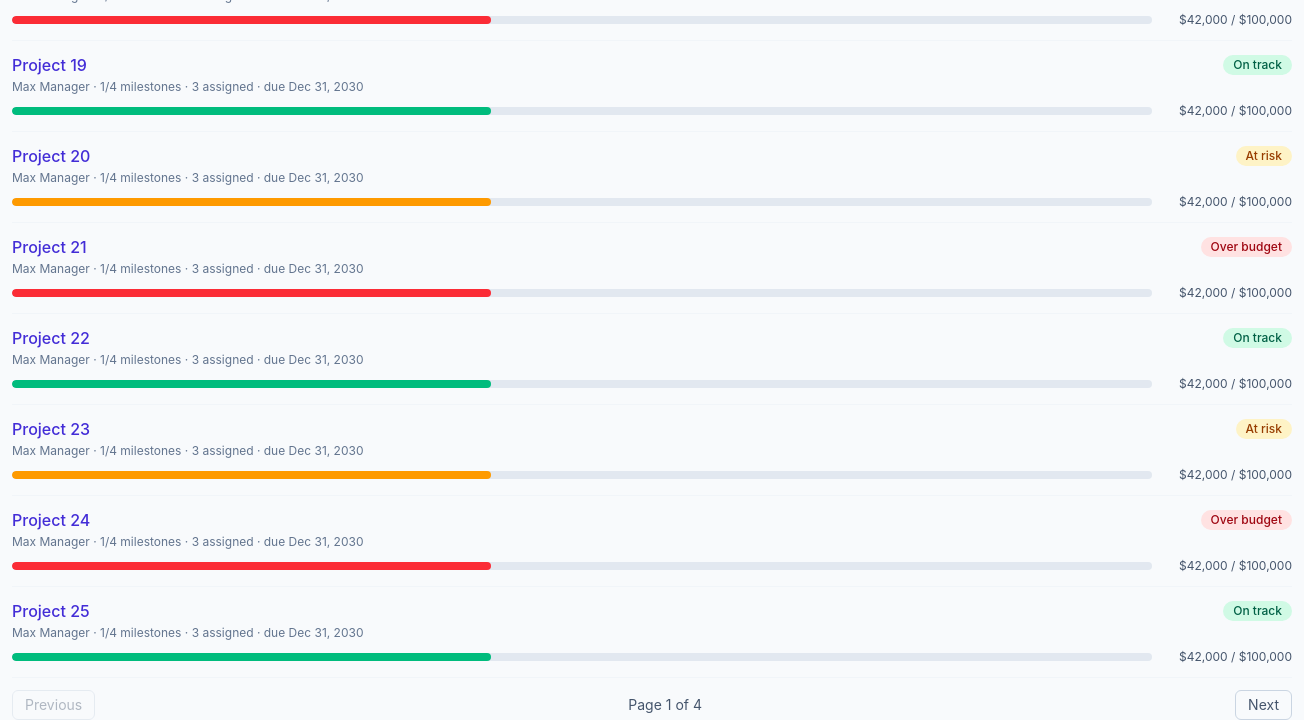
Test: ProjectHealthList › changing the filter returns to page 1
(page scrolled)
Click the button "Next": x=1264, y=705 [1235,690,1292,719]
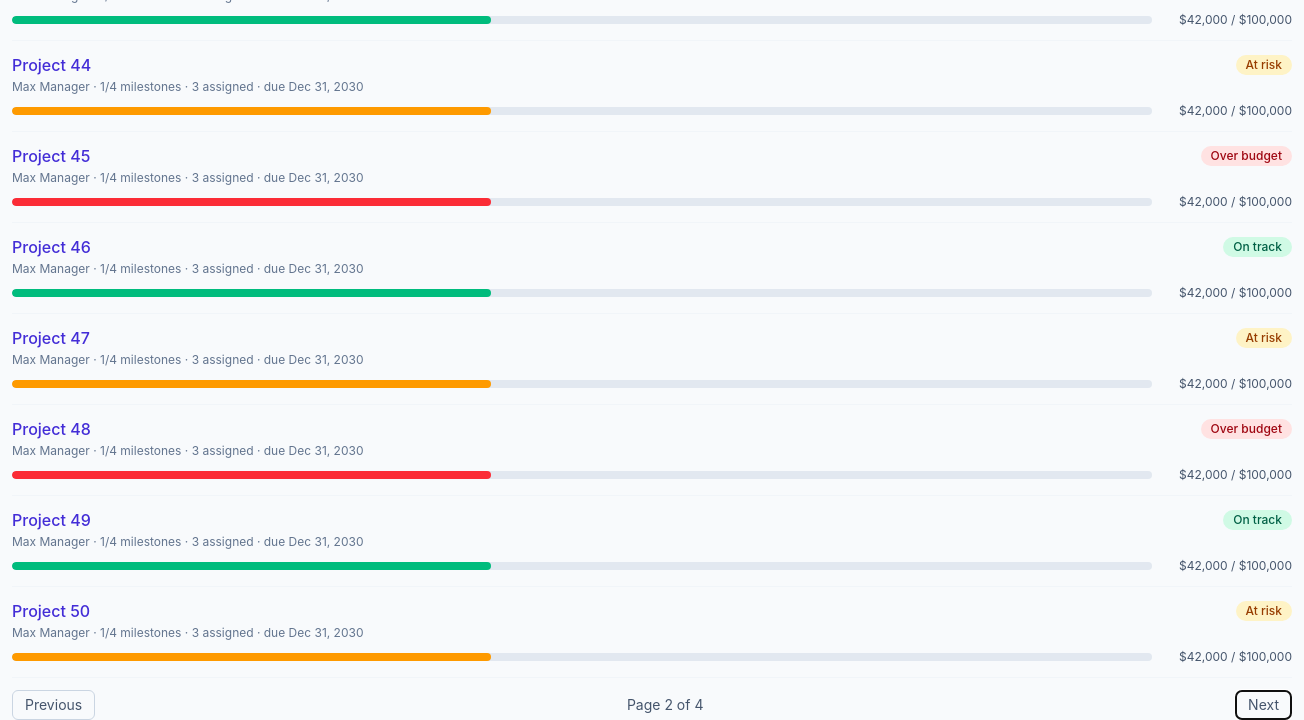
Click the button "Next": x=1264, y=705 [1235,690,1292,719]
(page scrolled)
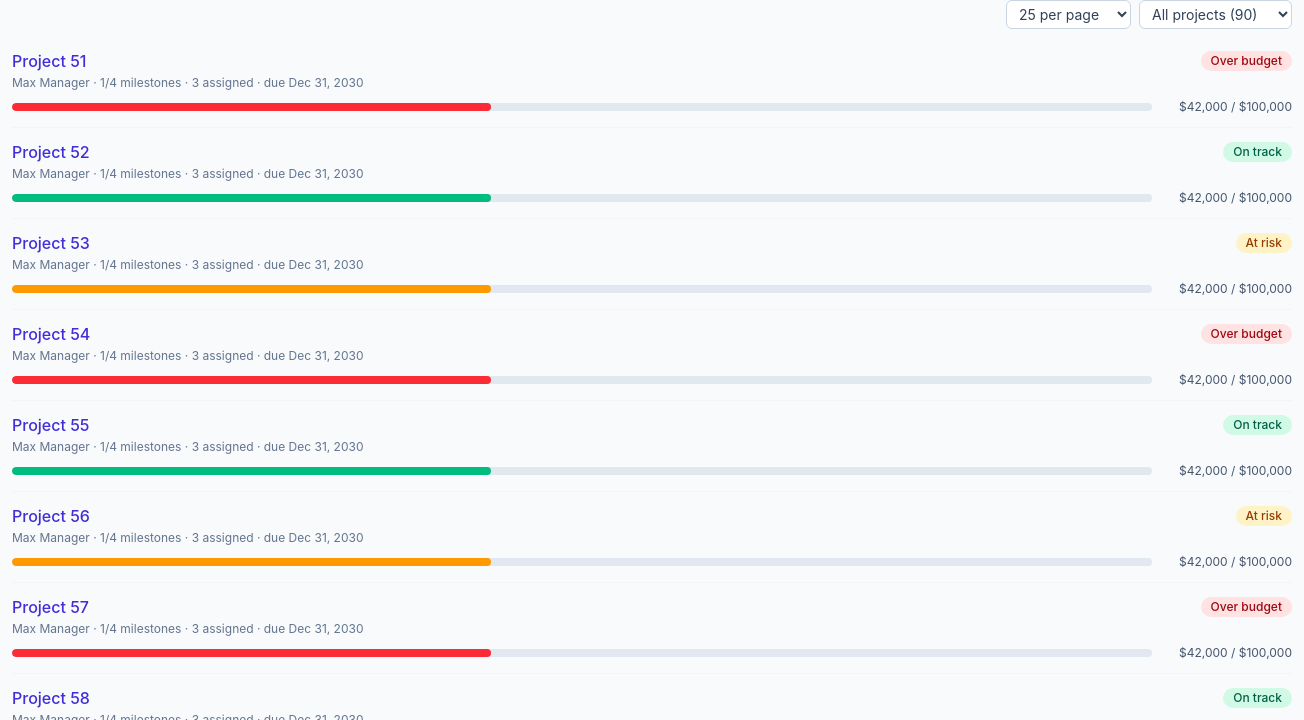
Select "On track (30)" in the dropdown named "budget health": x=1216, y=14 [1139,0,1292,29]
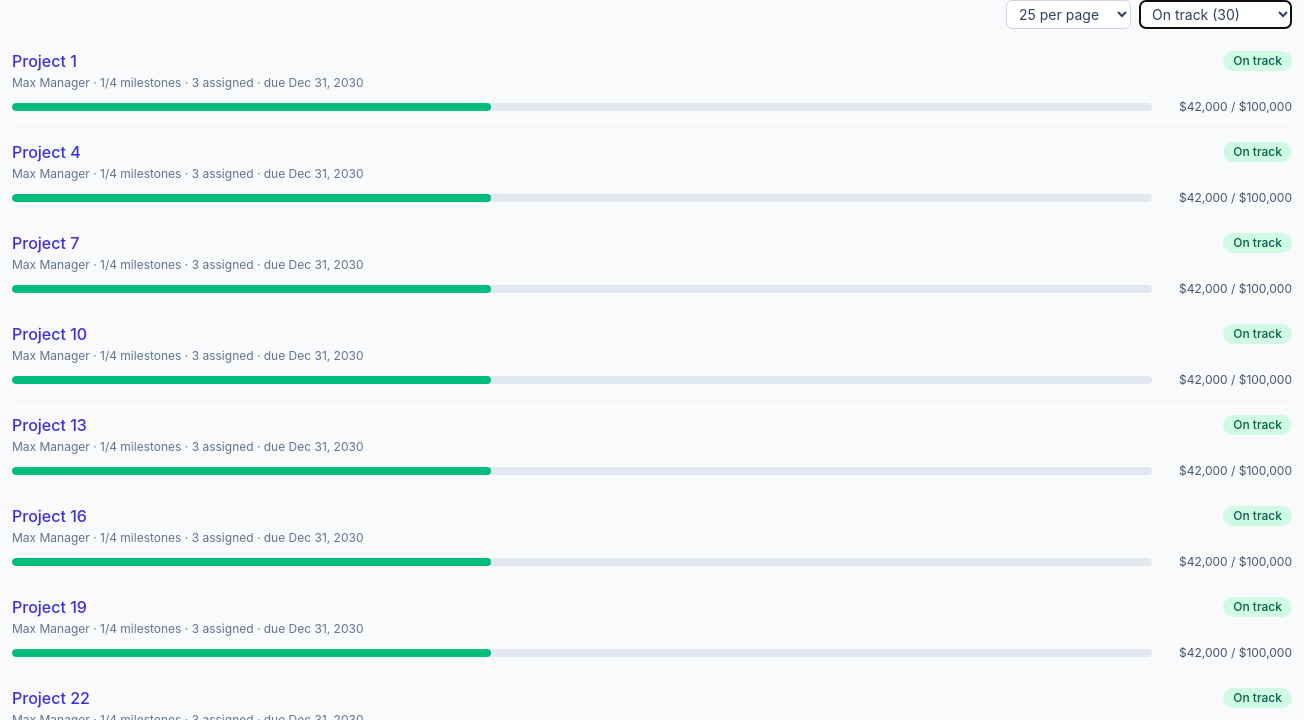
Now the link "Project 1" is shown, box [12,49,77,73]
